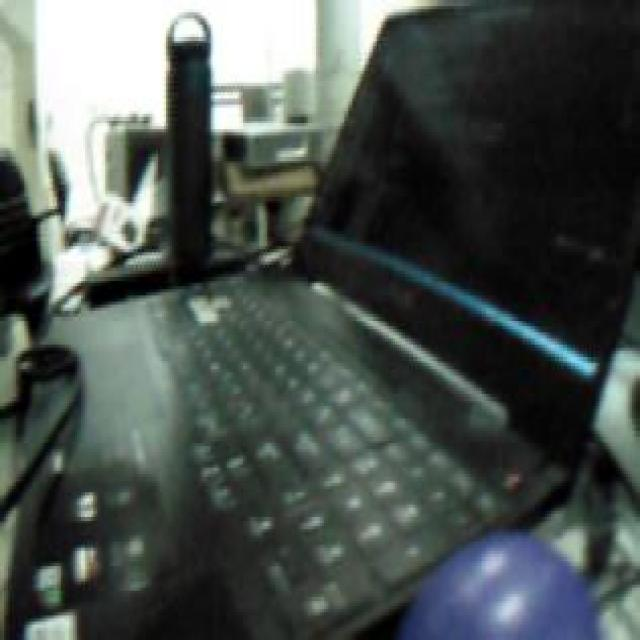BallPurple: (399, 532, 599, 640)
